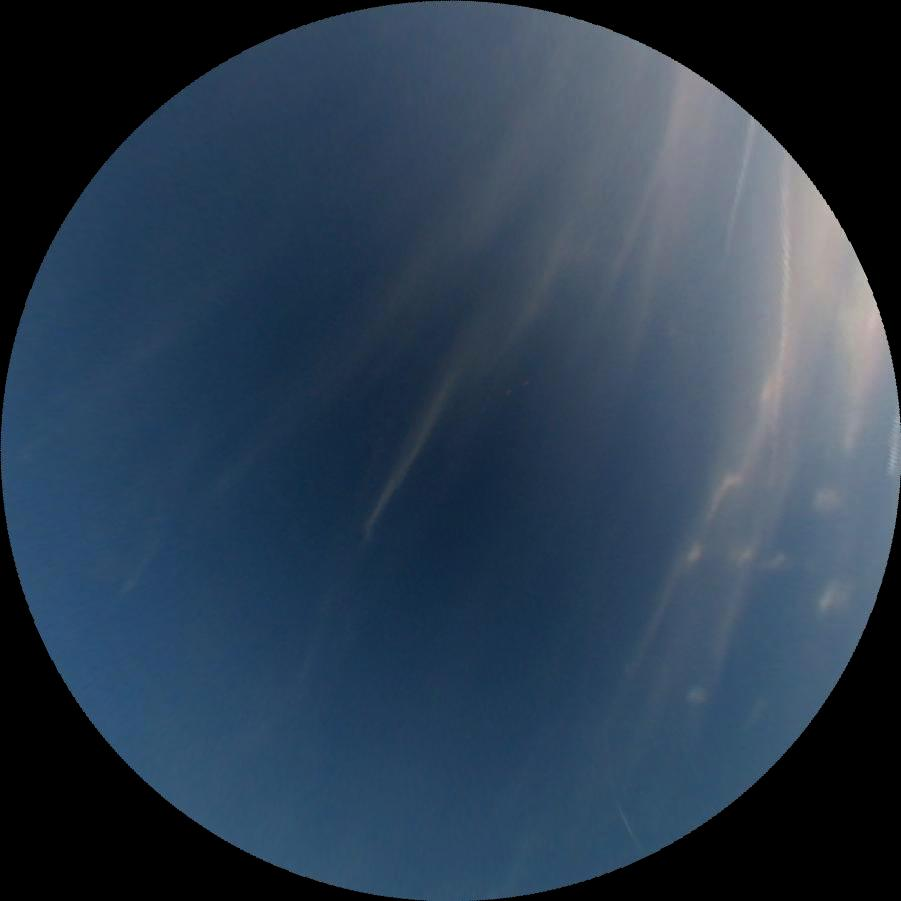contrail old: (727, 116, 758, 227)
contrail young: (604, 780, 644, 858)
